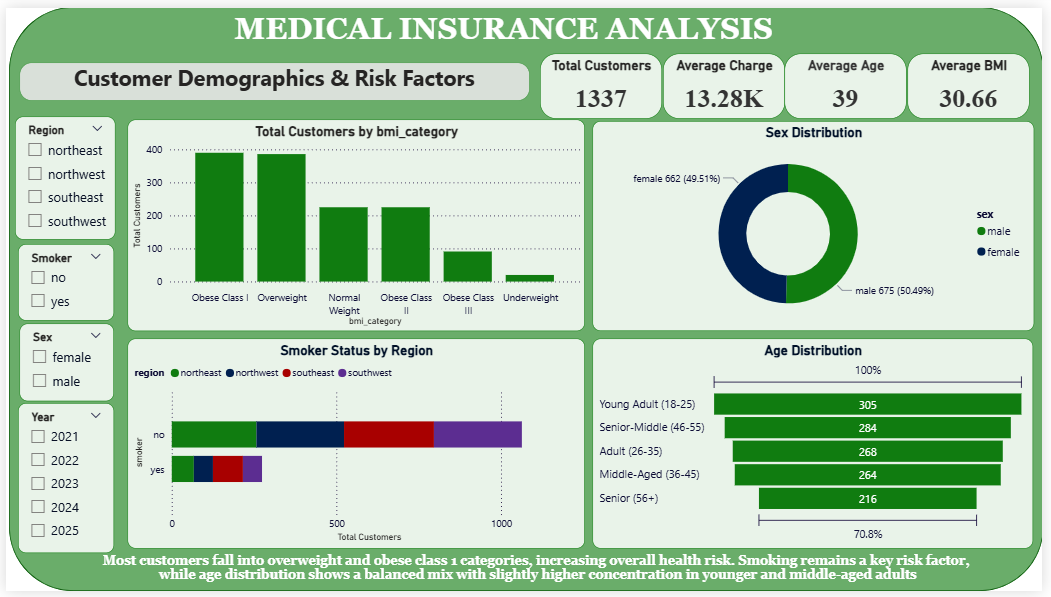

This screenshot's page, from the dashboard's own definition file:
{"tool":"powerbi","page":{"name":"Page 1","canvas":[1280,720],"ordinal":0},"visuals":[{"type":"shape","box":[3.5,0,1277.2,721.1],"z":0},{"type":"card","title":"Total Customers","fields":{"Values":["MeasureTable.Total individuals"]},"box":[659.6,56.6,150.9,80.7],"z":1000},{"type":"card","title":"Average Charge","fields":{"Values":["MeasureTable.Average insurance charge"]},"box":[810.5,56.6,150.9,80.7],"z":2000},{"type":"card","title":"Average Age","fields":{"Values":["MeasureTable.avg_Age"]},"box":[961.4,56.6,150.9,80.7],"z":3000},{"type":"card","title":"Average BMI","fields":{"Values":["MeasureTable.Avg BMI"]},"box":[1112.3,56.6,150.9,80.7],"z":4000},{"type":"funnel","title":"Age Distribution","fields":{"Category":["Medical_insurance.age_group"],"Y":["MeasureTable.Total Customers"]},"box":[724.6,408.8,543.9,259.6],"z":5000},{"type":"donutChart","title":"Sex Distribution","fields":{"Category":["Medical_insurance.sex"],"Y":["MeasureTable.Total individuals"]},"box":[724.6,140.4,545.6,259.6],"z":6000},{"type":"barChart","title":"Smoker Status by Region","fields":{"Category":["Medical_insurance.smoker"],"Y":["MeasureTable.Total individuals"],"Series":["Medical_insurance.region"]},"box":[149.1,408.8,564.9,259.6],"z":7000},{"type":"columnChart","fields":{"Category":["Medical_insurance.bmi_category"],"Y":["MeasureTable.Total Customers"]},"box":[149.1,138.6,564.9,261.4],"z":8000},{"type":"slicer","fields":{"Values":["Medical_insurance.region"]},"box":[11.1,135.2,124.1,151.9],"z":9000},{"type":"slicer","fields":{"Values":["Medical_insurance.smoker"]},"box":[14.8,292.6,118.5,94.4],"z":10000},{"type":"slicer","fields":{"Values":["Medical_insurance.sex"]},"box":[16.7,390.7,116.7,96.3],"z":11000},{"type":"slicer","fields":{"Values":["Medical_insurance.year"]},"box":[14.8,488.9,118.5,185.2],"z":12000},{"type":"textbox","title":"M","box":[57.9,0,1114,56.1],"z":13000},{"type":"textbox","box":[57.4,668.5,1194.4,51.9],"z":14000},{"type":"textbox","box":[15.8,68.4,629.8,47.4],"z":15000}]}

Visuals, with their boxes in screenshot pixels (x1, y1, x2, y2), scaled from the page's 1280x720 canvas onto the 1051x597 screenshot:
shape: left=3, top=0, right=1050, bottom=596
"Total Customers" card: left=542, top=47, right=665, bottom=114
"Average Charge" card: left=665, top=47, right=789, bottom=114
"Average Age" card: left=789, top=47, right=913, bottom=114
"Average BMI" card: left=913, top=47, right=1037, bottom=114
"Age Distribution" funnel: left=595, top=339, right=1042, bottom=554
"Sex Distribution" donutChart: left=595, top=116, right=1043, bottom=332
"Smoker Status by Region" barChart: left=122, top=339, right=586, bottom=554
columnChart - Medical_insurance.bmi_category x MeasureTable.Total Customers: left=122, top=115, right=586, bottom=332
slicer - Medical_insurance.region: left=9, top=112, right=111, bottom=238
slicer - Medical_insurance.smoker: left=12, top=243, right=109, bottom=321
slicer - Medical_insurance.sex: left=14, top=324, right=110, bottom=404
slicer - Medical_insurance.year: left=12, top=405, right=109, bottom=559
"M" textbox: left=48, top=0, right=962, bottom=47
textbox: left=47, top=554, right=1028, bottom=596
textbox: left=13, top=57, right=530, bottom=96
